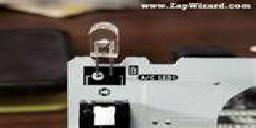LED: (86, 18, 119, 60)
